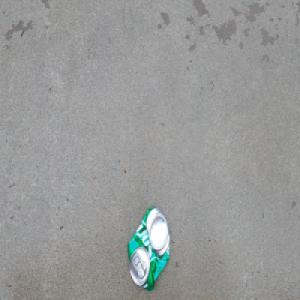SodaCan: (127, 203, 172, 292)
